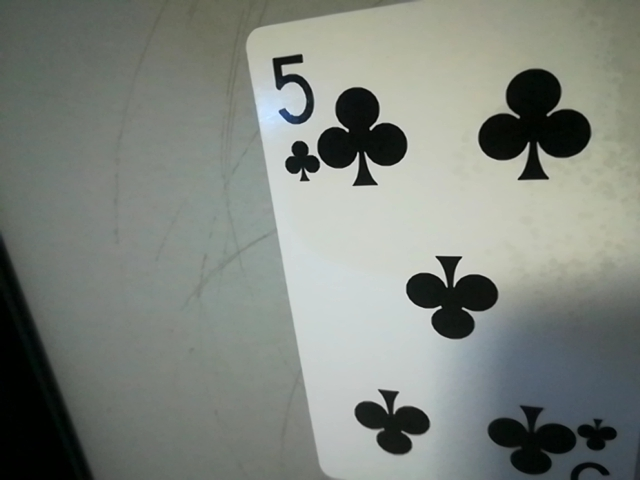mh 5: (259, 46, 321, 189)
